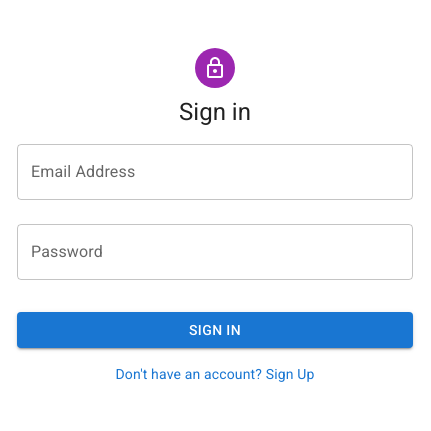
Test: <Signin /> › does NOT navigate when the credentials are rejected
The width and height of the screenshot is (431, 431).
In the field labelled "Email Address": (215, 172) [17,144,413,200], type "ada@example.com"
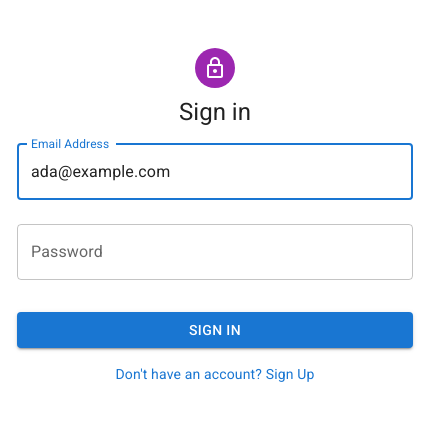
In the password field labelled "Password": (215, 252) [17,224,413,280], type "abcd1234"
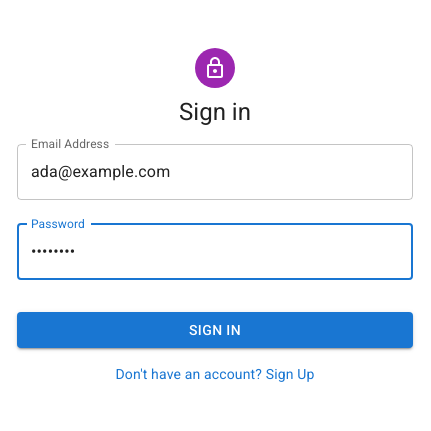
Click the button "Sign In": (215, 330) [17,312,413,348]
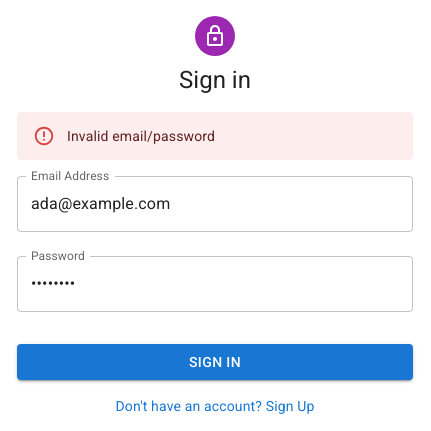
Now the message reads "Invalid email/password", box [67,128,215,144]
